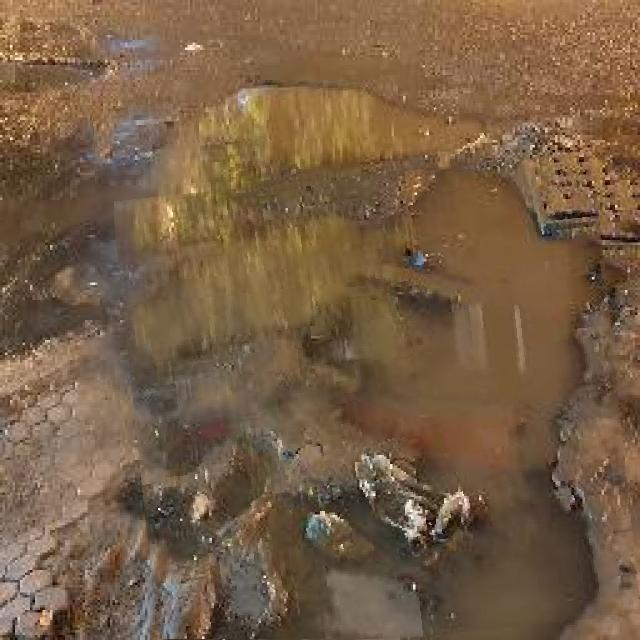puddle: (126, 164, 632, 640), (94, 80, 494, 228)
